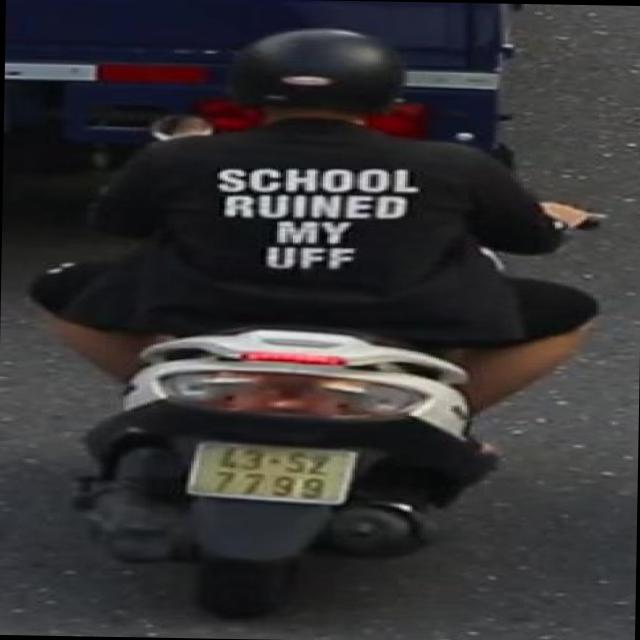LP: (182, 438, 360, 509)
helmet: (221, 22, 416, 132)
